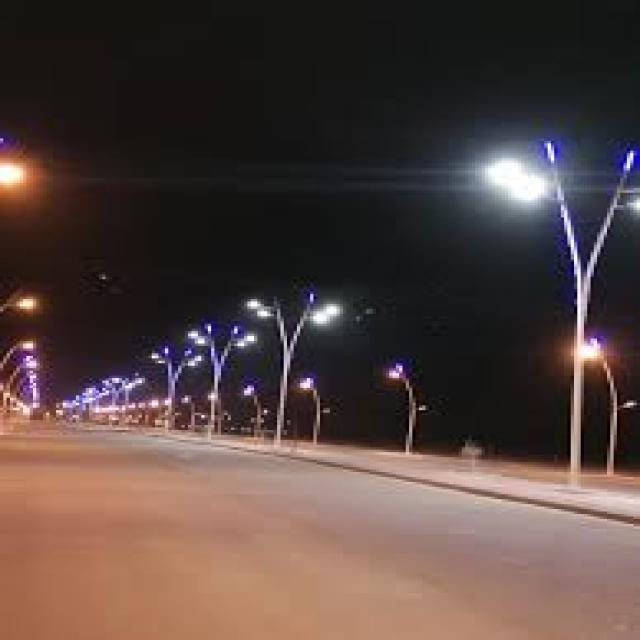Street Light: (482, 156, 604, 477), (244, 299, 340, 445), (185, 329, 257, 435), (571, 341, 620, 477), (382, 366, 416, 457), (3, 338, 33, 408), (294, 378, 320, 442), (4, 292, 36, 336)
